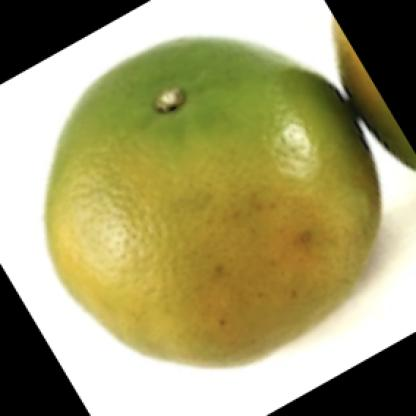fresh: (49, 37, 380, 367)
